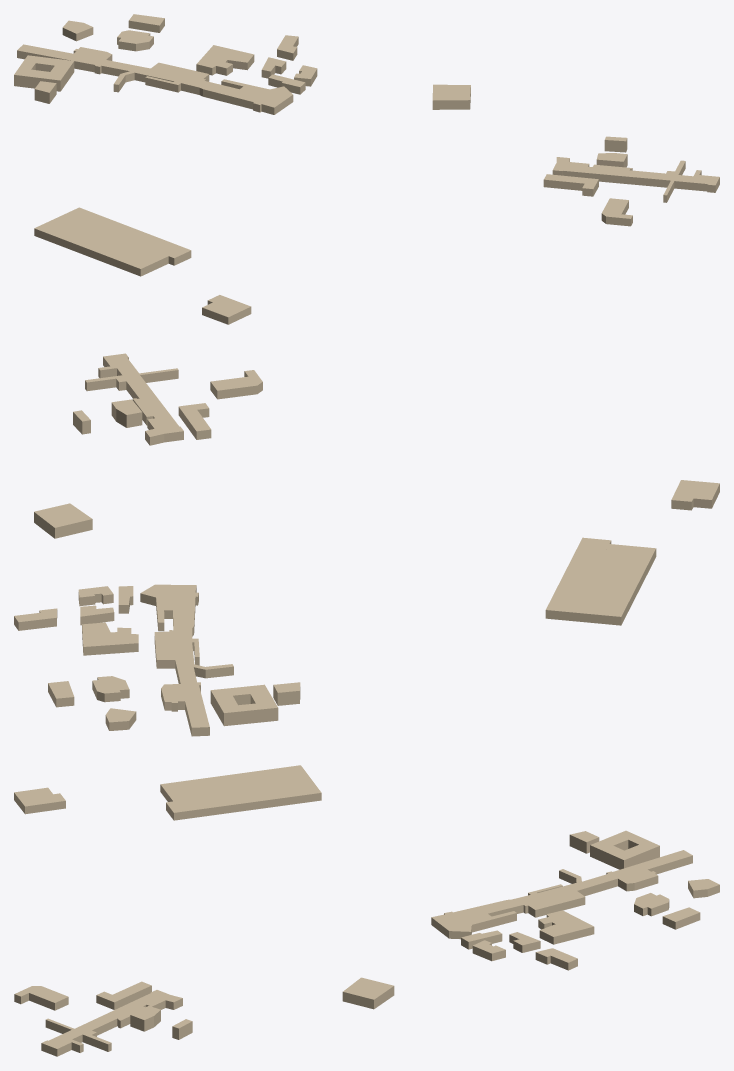
File: -15_-4-estimated-coarse.glb
3 views of the same model, one above another, from view 1: azimuth 30°, elevation 25°; view 2: azimuth 150°, elevation 25°; view 3: azimuth 270°, elevation 25° (orthographic). The views are drawn at different scales.
Bounding box in the file's own units: 948 × 18 × 996.
